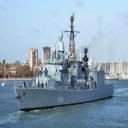Fragata: (15, 11, 116, 115)
